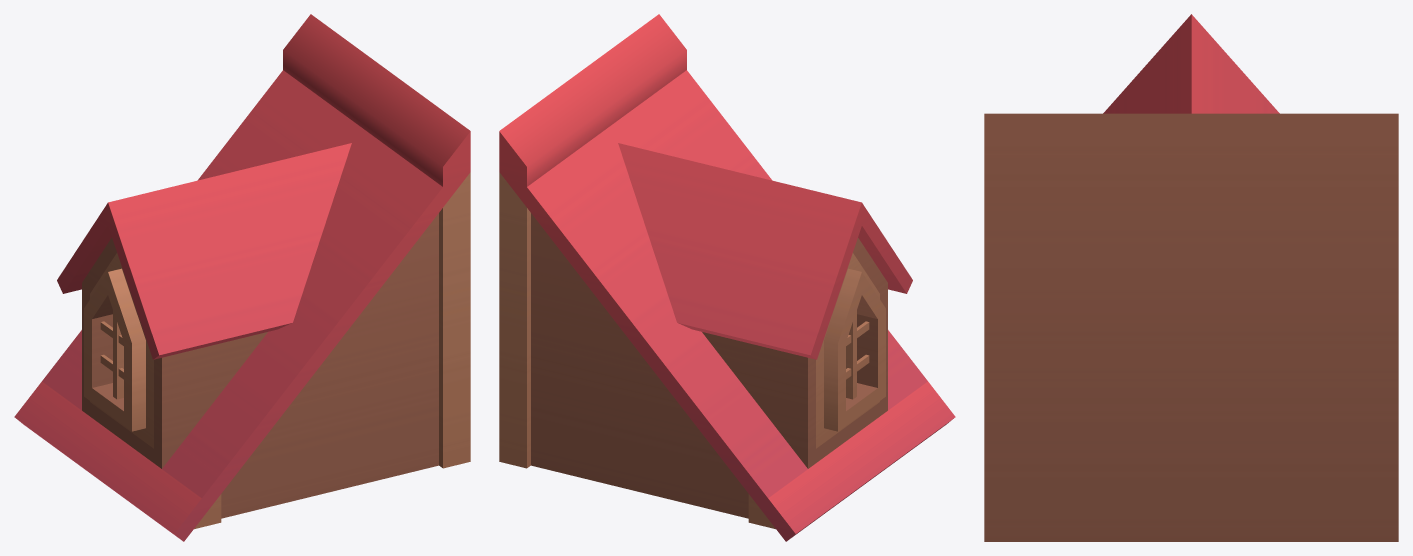
File: roof-high-window.fbx
3 renders of one model, left to right at view 1: azimuth 30°, elevation 25°; view 2: azimuth 150°, elevation 25°; view 3: azimuth 270°, elevation 25°, orthographic. The views are drawn at different scales.
Parts seen in each view (by area): view 1: roof-high-window; view 2: roof-high-window; view 3: roof-high-window.
Part boxes in pixels (x1=…): roof-high-window: x1=14, y1=14, x2=470, y2=541; roof-high-window: x1=499, y1=14, x2=955, y2=541; roof-high-window: x1=984, y1=14, x2=1398, y2=541.
Size of the model in its own units: 107 by 118 by 100.
1 material, 1 textured.
